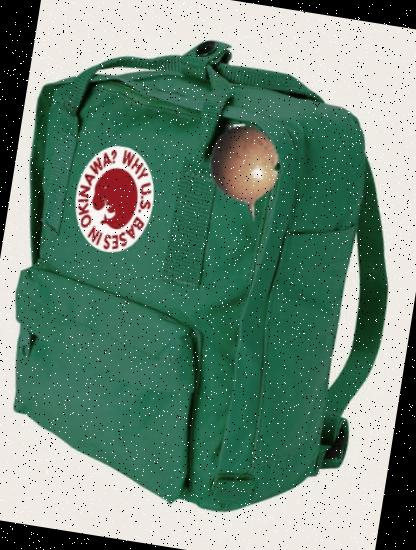Granadilla: (190, 118, 301, 229)
